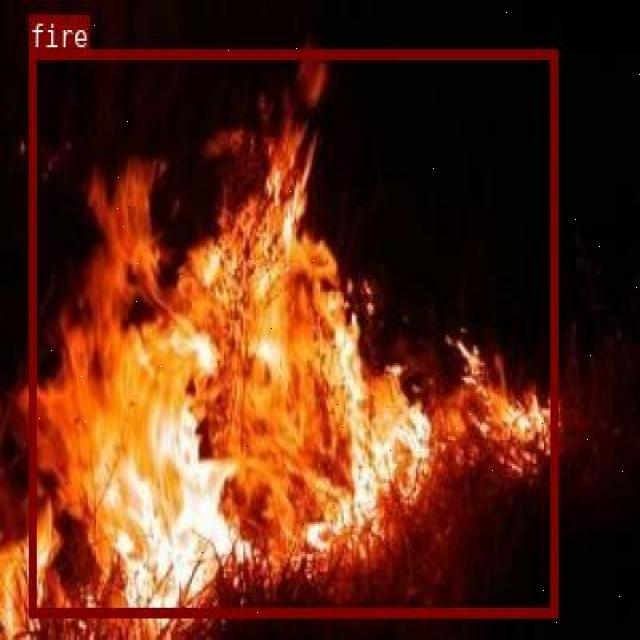fire: (29, 49, 556, 615)
